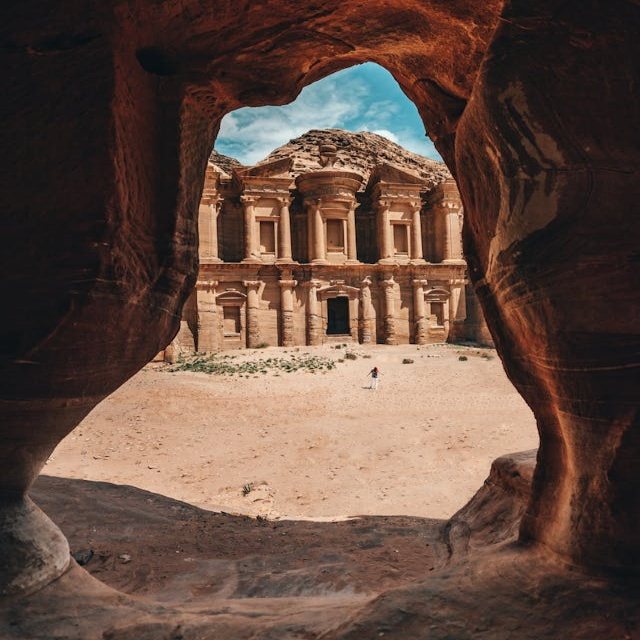contaminated_water: (13, 13, 627, 627)
oil_spill: (0, 0, 111, 413)
turbid_water: (0, 0, 628, 640)
